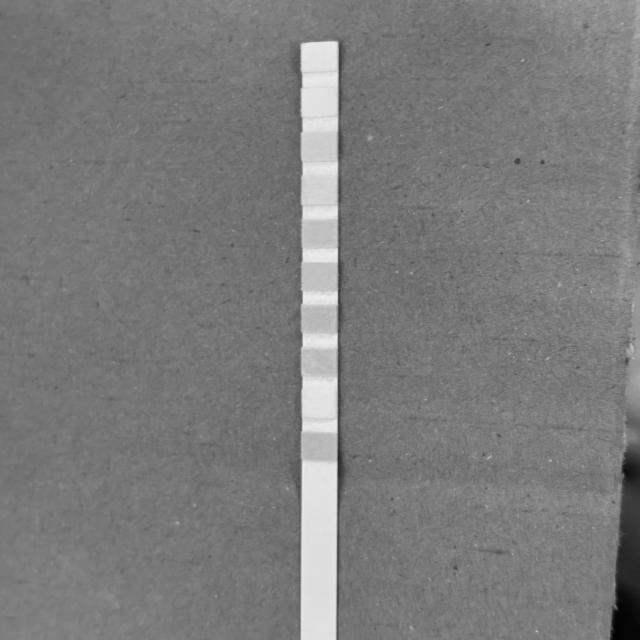Bilirubin: (303, 393, 336, 419)
Blood: (303, 264, 336, 290)
Glucose: (303, 434, 337, 460)
Ketone: (304, 350, 336, 374)
Leukocytes: (302, 45, 336, 71)
Nitrite: (302, 90, 337, 116)
Protein: (303, 177, 337, 205)
SpGravity: (304, 307, 337, 332)
Urobilinogen: (303, 135, 337, 160)
background: (0, 0, 640, 640)
pH: (303, 220, 336, 247)
strip: (302, 42, 338, 618)
